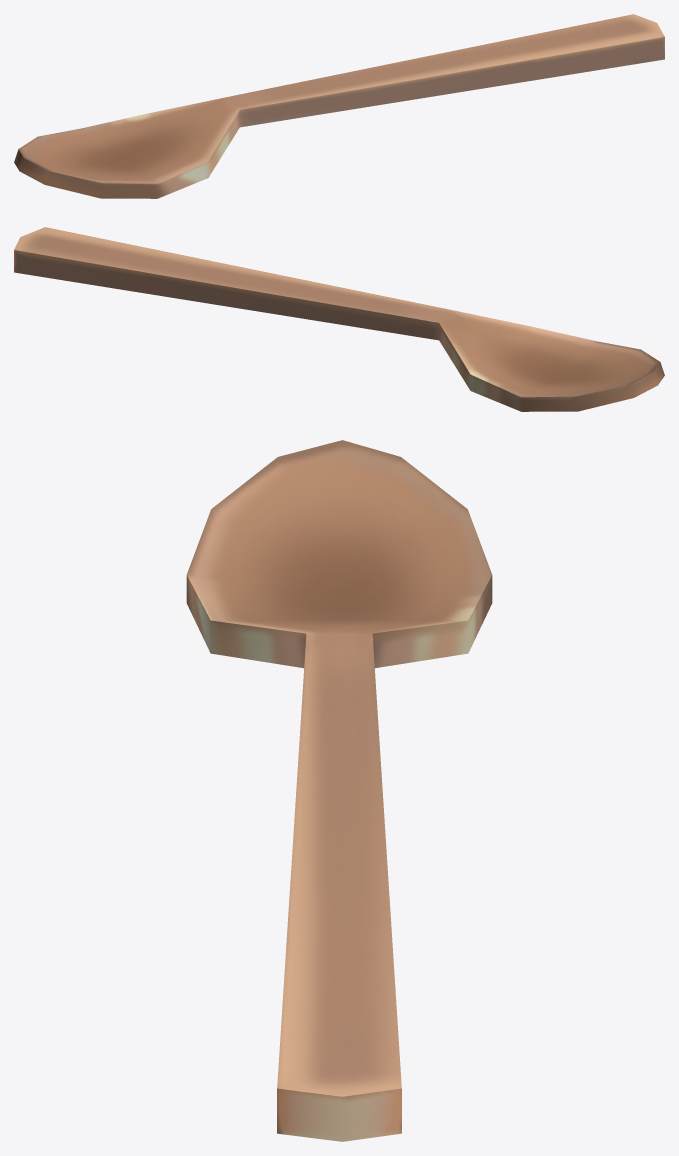
File: Spoon_02.fbx
3 views of the same model, one above another, from view 1: azimuth 30°, elevation 25°; view 2: azimuth 150°, elevation 25°; view 3: azimuth 270°, elevation 25° (orthographic). The views are drawn at different scales.
Parts seen in each view (by area): view 1: Spoon_02; view 2: Spoon_02; view 3: Spoon_02.
Part boxes in pixels (left/top/right/bottom): Spoon_02: left=14, top=14, right=664, bottom=198; Spoon_02: left=14, top=227, right=664, bottom=411; Spoon_02: left=186, top=440, right=492, bottom=1141.
Bounding box in the file's own units: 59.01 × 4.25 × 12.24.
